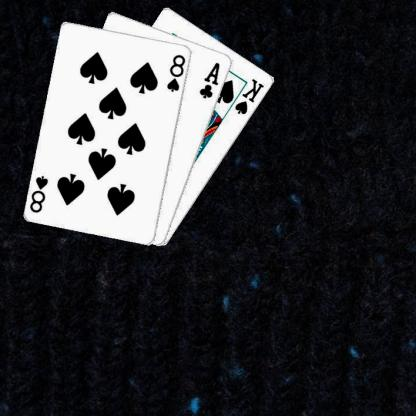8S: (166, 52, 189, 93), (29, 173, 52, 214)
AC: (199, 60, 223, 100)
KS: (234, 76, 267, 116)
